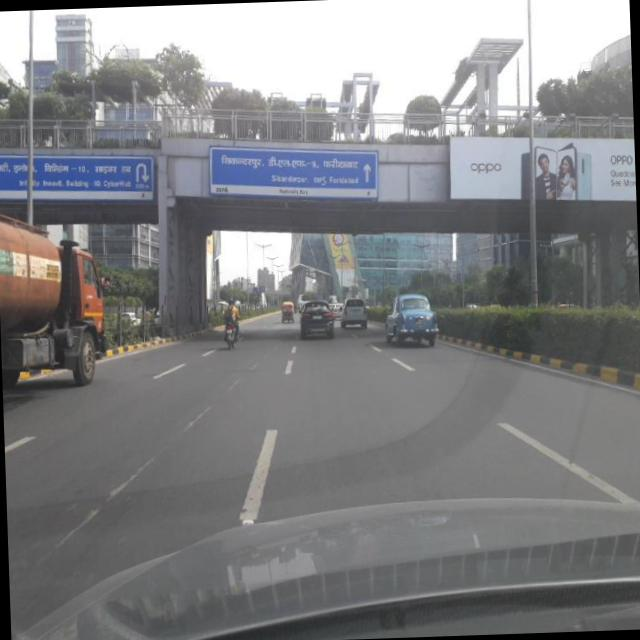pothole: (34, 452, 164, 557), (174, 398, 213, 437), (226, 349, 265, 388)
